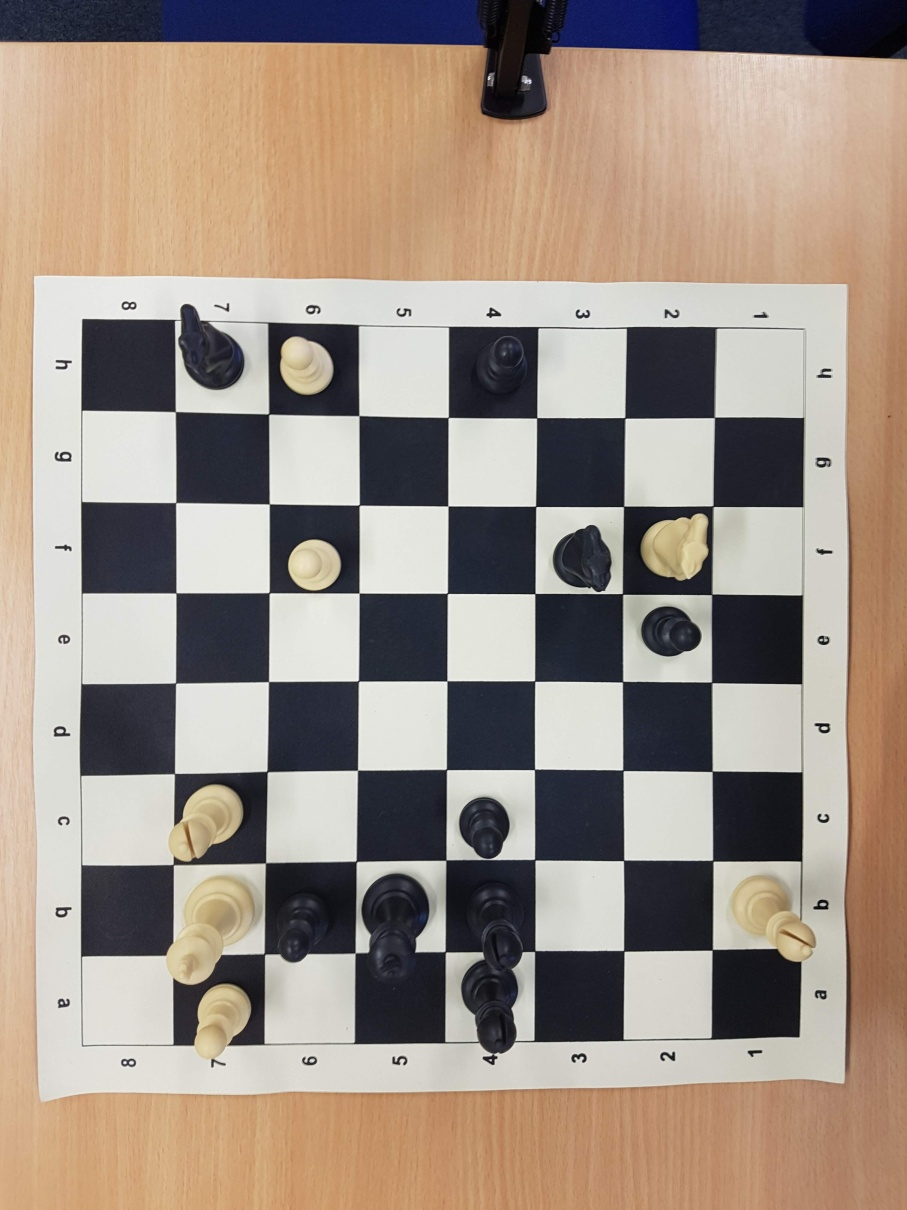chess_bishop: (731, 874, 817, 961), (170, 783, 242, 861), (465, 883, 523, 969), (463, 966, 516, 1054)
chess_king: (166, 877, 253, 985), (361, 874, 429, 980)
chess_knight: (177, 304, 245, 390), (640, 513, 711, 581), (554, 524, 613, 592)
chess_pawn: (195, 985, 251, 1058), (275, 894, 326, 963), (277, 335, 333, 396), (458, 797, 510, 859), (475, 336, 528, 395), (641, 605, 701, 657), (287, 537, 341, 591)
